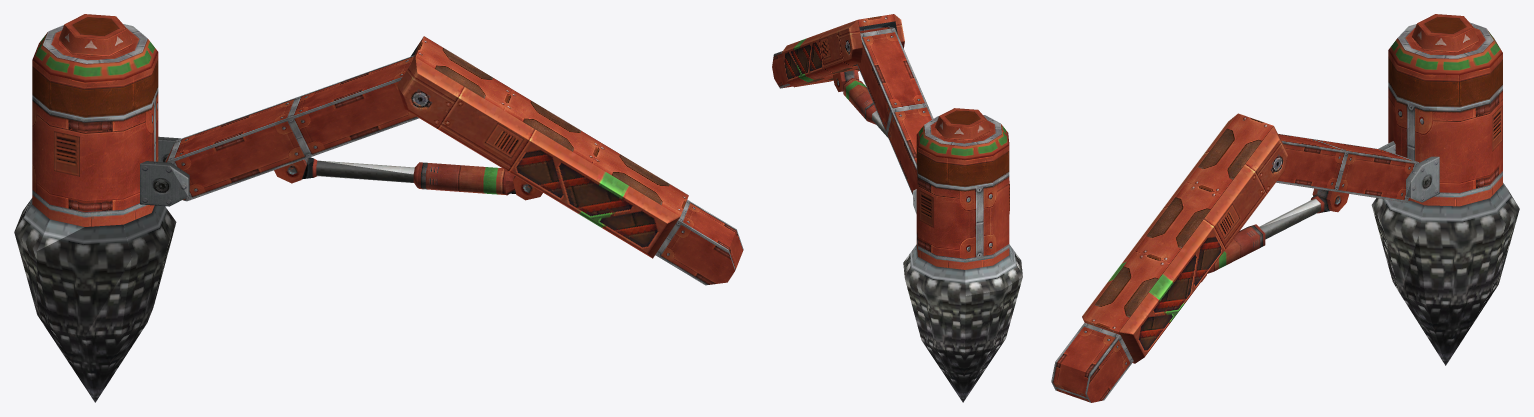
Rendered from stg400_MotExcavatorSS_01.obj.
3 views of the same model, side by side, from view 1: azimuth 30°, elevation 25°; view 2: azimuth 150°, elevation 25°; view 3: azimuth 270°, elevation 25° (orthographic). The views are drawn at different scales.
Parts seen in each view (by area): view 1: polygon0, polygon5, polygon6, polygon1, polygon7, polygon4, polygon2; view 2: polygon5, polygon6, polygon0, polygon1, polygon7; view 3: polygon0, polygon5, polygon6, polygon1, polygon7, polygon4, polygon2.
Part boxes in pixels (<box>): polygon0: <box>165,36,743,285</box>; polygon5: <box>32,14,158,226</box>; polygon6: <box>14,198,176,402</box>; polygon1: <box>302,57,679,258</box>; polygon7: <box>32,32,157,176</box>; polygon4: <box>140,136,189,206</box>; polygon2: <box>316,160,414,182</box>; polygon5: <box>916,108,1009,269</box>; polygon6: <box>903,244,1022,402</box>; polygon0: <box>772,14,933,194</box>; polygon1: <box>782,14,904,124</box>; polygon7: <box>916,124,1009,227</box>; polygon0: <box>1051,113,1418,402</box>; polygon5: <box>1388,14,1502,206</box>; polygon6: <box>1371,183,1519,365</box>; polygon1: <box>1082,114,1332,363</box>; polygon7: <box>1388,29,1502,151</box>; polygon4: <box>1378,141,1439,202</box>; polygon2: <box>1259,198,1320,239</box>.
Size of the model in its own units: 211 by 147 by 182.
5 materials, 5 textured.
